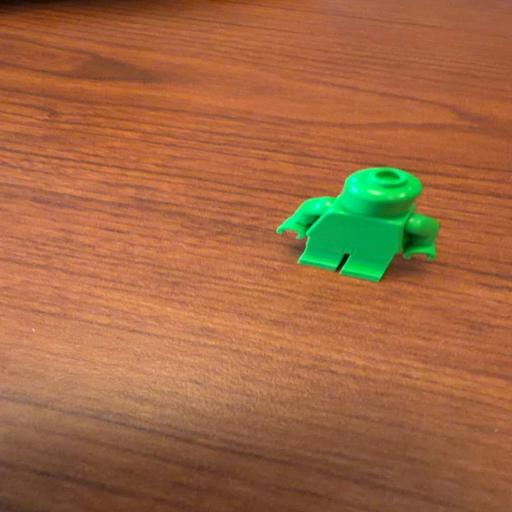UnoQ-minifig-detector: (275, 166, 439, 282)
